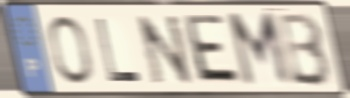B: (277, 10, 334, 89)
E: (183, 12, 244, 87)
L: (93, 15, 143, 85)
M: (224, 9, 295, 90)
N: (133, 12, 196, 87)
O: (46, 14, 95, 87)
